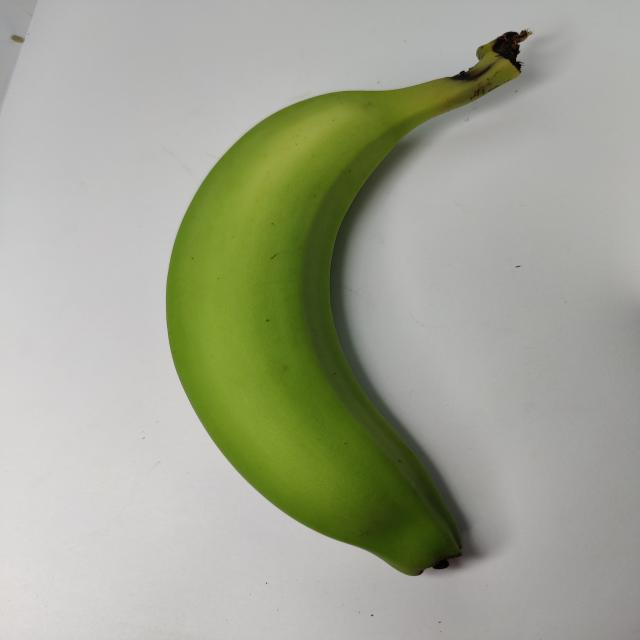raw: (139, 26, 581, 583)
